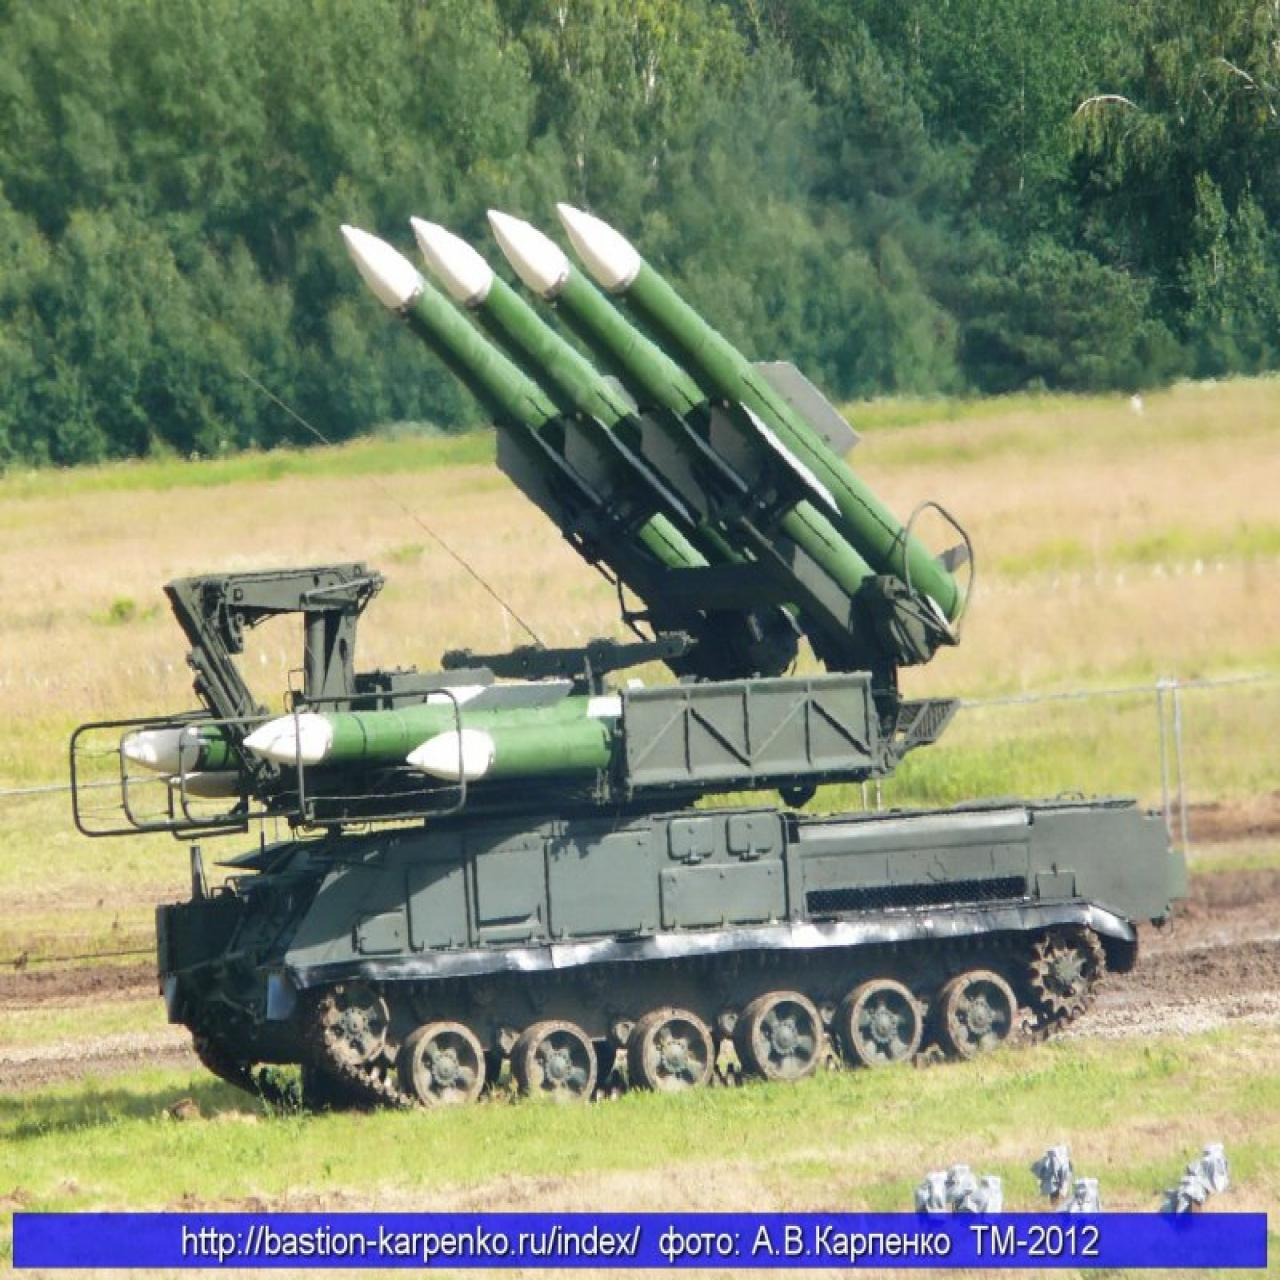MIL_Veh: (87, 203, 1194, 1101)
